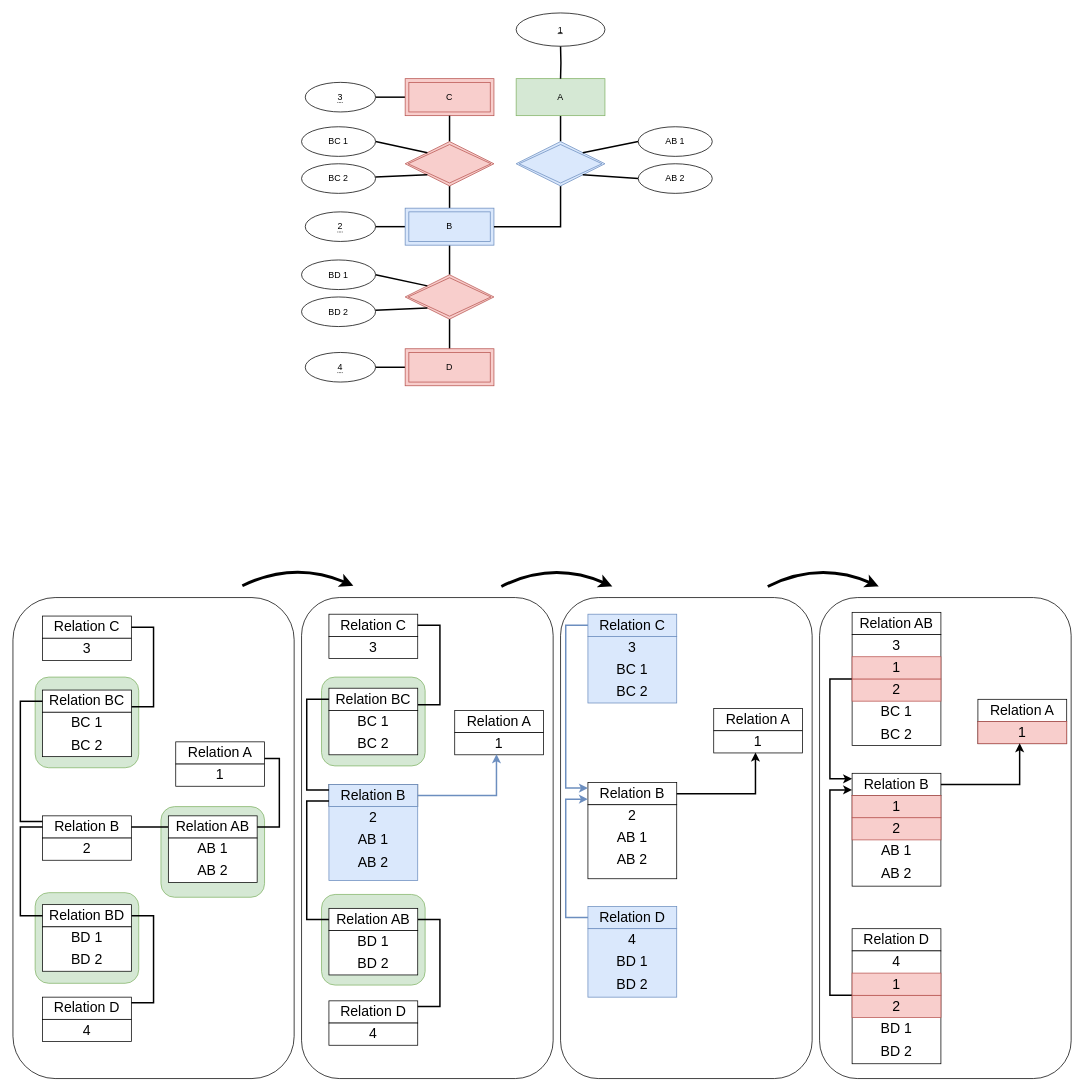
This 1084x1092 diagram has some shape labels left out. The shapes that lost their labels are listed below. From the top down, each one's centre as x and y in pixels, then its label:
(449,163): BC
(560,163): AB
(449,296): BD
